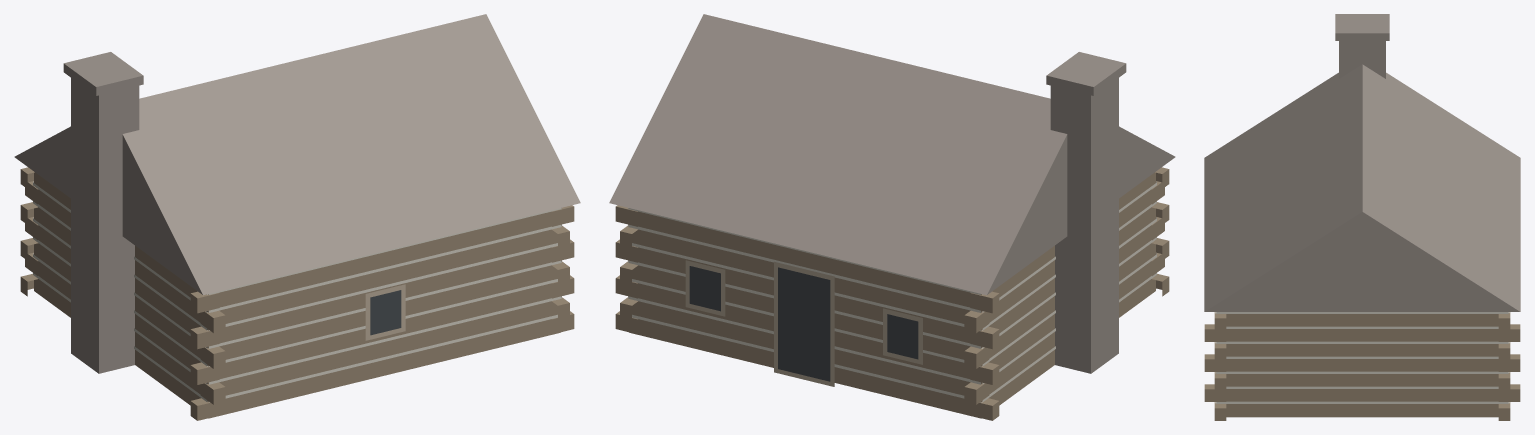
File: robert_kinzie_store__store_1830.glb
The picture shows the model from 3 angles, left to right: view 1: azimuth 30°, elevation 25°; view 2: azimuth 150°, elevation 25°; view 3: azimuth 270°, elevation 25°; orthographic projection. The views are drawn at different scales.
Parts seen in each view (by area): view 1: robert_kinzie_store__store_1830; view 2: robert_kinzie_store__store_1830; view 3: robert_kinzie_store__store_1830.
Boxes of the visible parts, <box> form: robert_kinzie_store__store_1830: <box>14,14,580,420</box>; robert_kinzie_store__store_1830: <box>609,14,1175,420</box>; robert_kinzie_store__store_1830: <box>1204,14,1520,420</box>.
Bounding box in the file's own units: 8.07 × 5.56 × 6.5.
